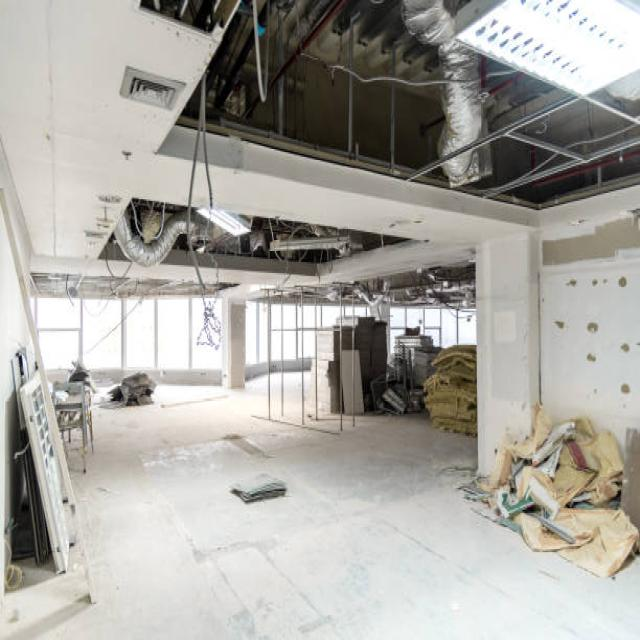floor: (0, 370, 640, 640)
wall: (539, 207, 640, 455), (476, 229, 541, 477), (0, 205, 37, 603), (0, 143, 32, 305), (539, 185, 640, 229), (228, 299, 246, 389), (221, 299, 228, 389)
